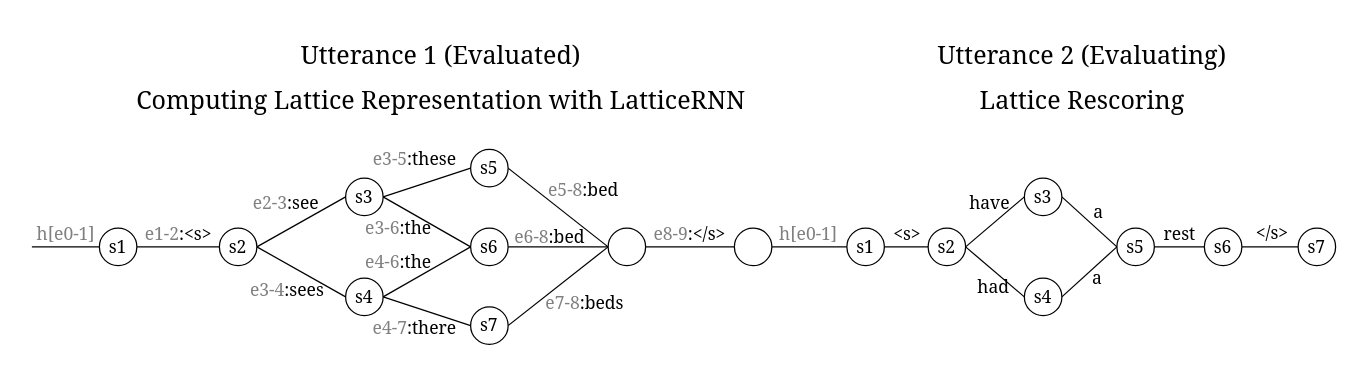
The diagram is 1358 pixels wide and 366 high, and some of its shapes have lost their labels. The shapes that lost their labels are listed below. From the top down, each one's centre as x and y in pixels, then its label:
At point (626, 246): "s8".
At point (752, 246): "s9".
